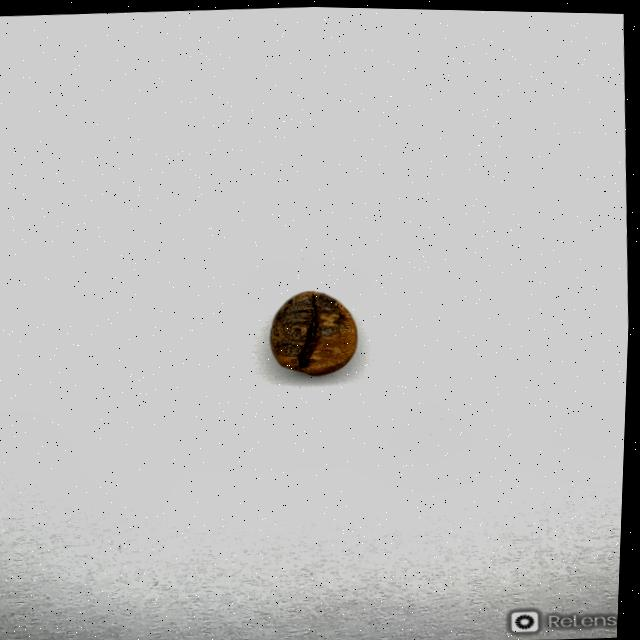Scorched: (269, 286, 362, 377)
